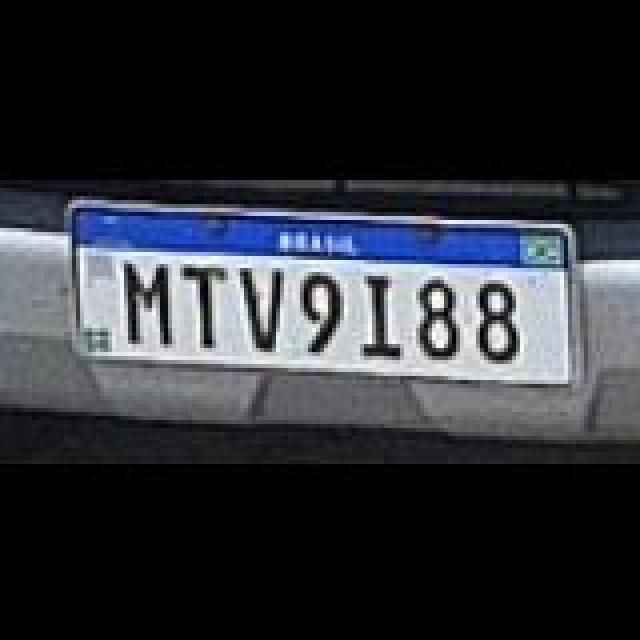8: (472, 278, 520, 362), (416, 274, 464, 358)
9: (294, 270, 346, 354)
I: (362, 270, 406, 354)
M: (122, 256, 182, 344)
T: (178, 262, 238, 346)
V: (236, 266, 292, 350)
